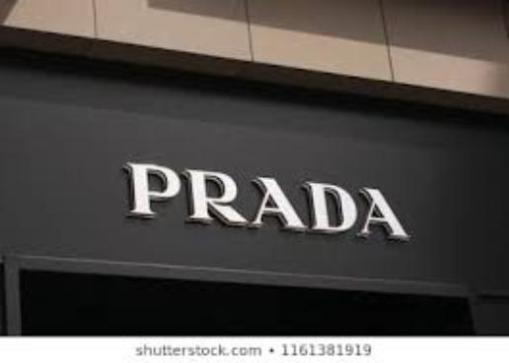PRADA: (116, 150, 424, 251)
